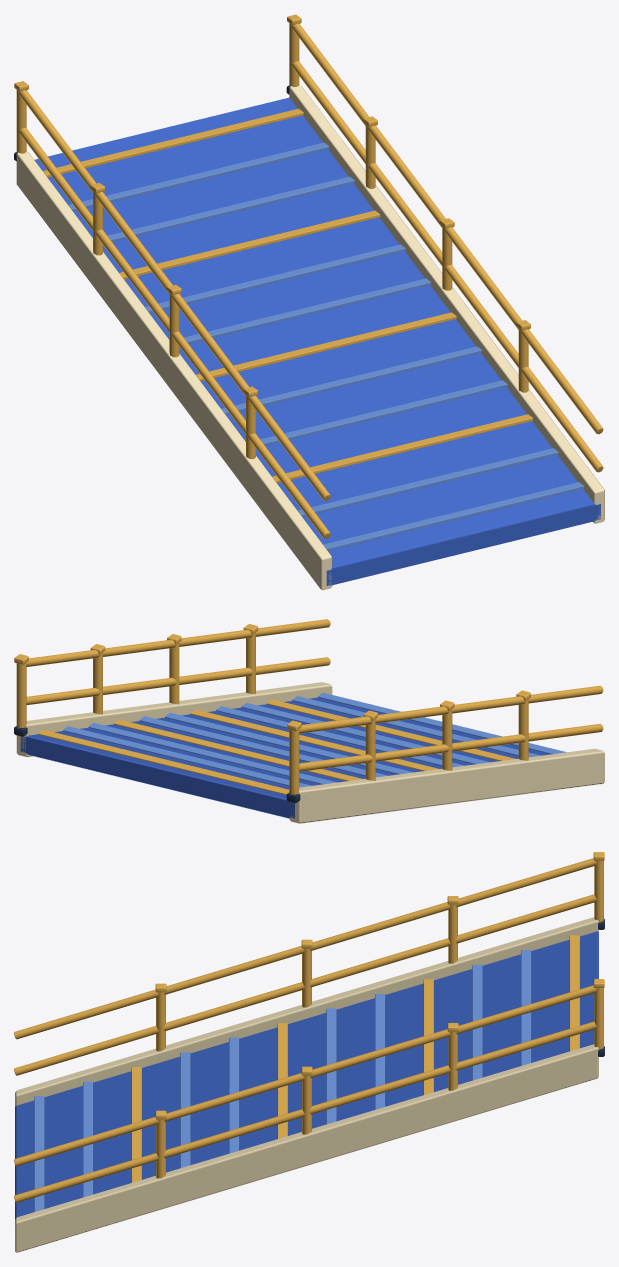
The model's file is bridge_ramp_aft.glb.
The picture shows the model from 3 angles, top to bottom: view 1: azimuth 30°, elevation 25°; view 2: azimuth 150°, elevation 25°; view 3: azimuth 270°, elevation 25°; orthographic projection. The views are drawn at different scales.
Visible parts, largest first — view 1: bridge_ramp_aft; view 2: bridge_ramp_aft; view 3: bridge_ramp_aft.
Boxes of the visible parts, box(x1,y1,x2,y2) form: bridge_ramp_aft: box(14, 14, 604, 590); bridge_ramp_aft: box(14, 619, 604, 823); bridge_ramp_aft: box(14, 852, 604, 1252).
Size of the model in its own units: 4.3 by 4.08 by 8.09.
